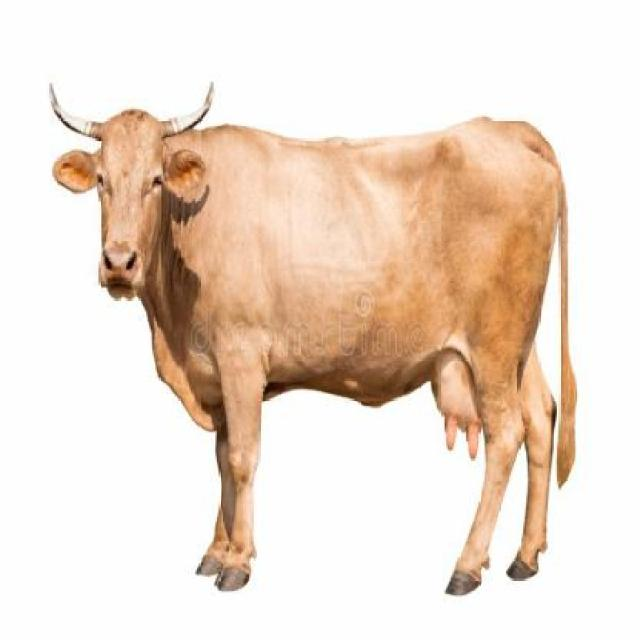Cow: (46, 74, 585, 603)
